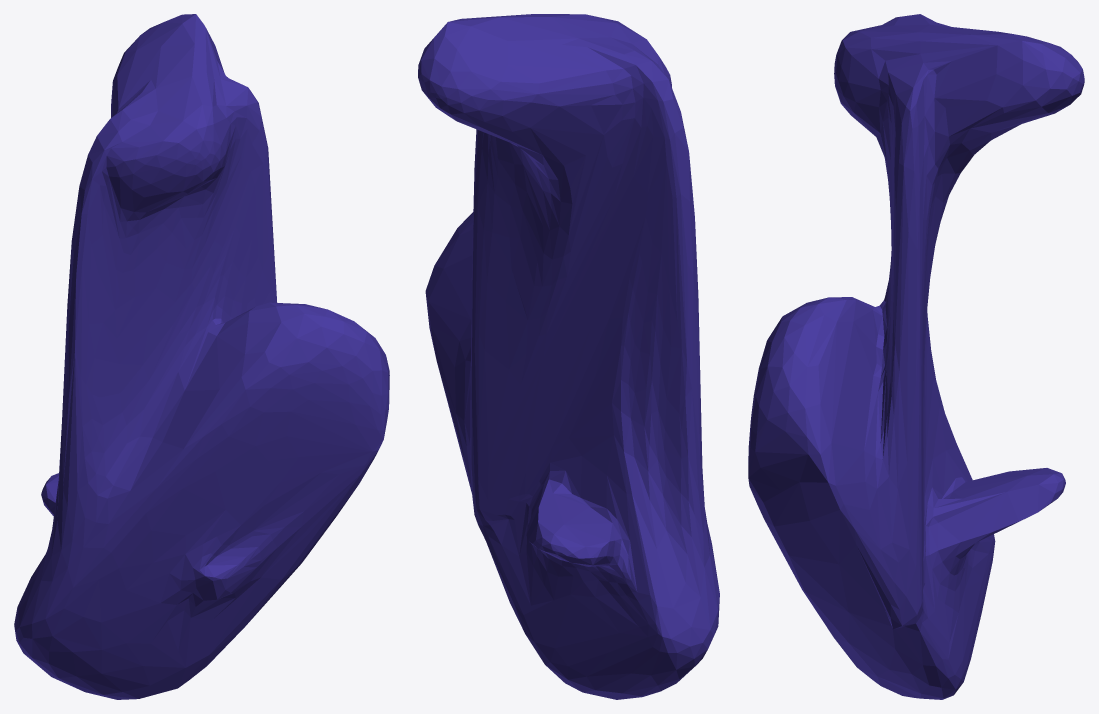
3 views of the same model, side by side, from view 1: azimuth 30°, elevation 25°; view 2: azimuth 150°, elevation 25°; view 3: azimuth 270°, elevation 25° (orthographic). The views are drawn at different scales.
Visible parts, largest first — view 1: 665_Cube.2674; view 2: 665_Cube.2674; view 3: 665_Cube.2674.
Part boxes in pixels (<box>): 665_Cube.2674: <box>14,14,389,699</box>; 665_Cube.2674: <box>418,14,719,699</box>; 665_Cube.2674: <box>748,14,1084,699</box>.
Size of the model in its own units: 8.36 by 15.82 by 6.8.
